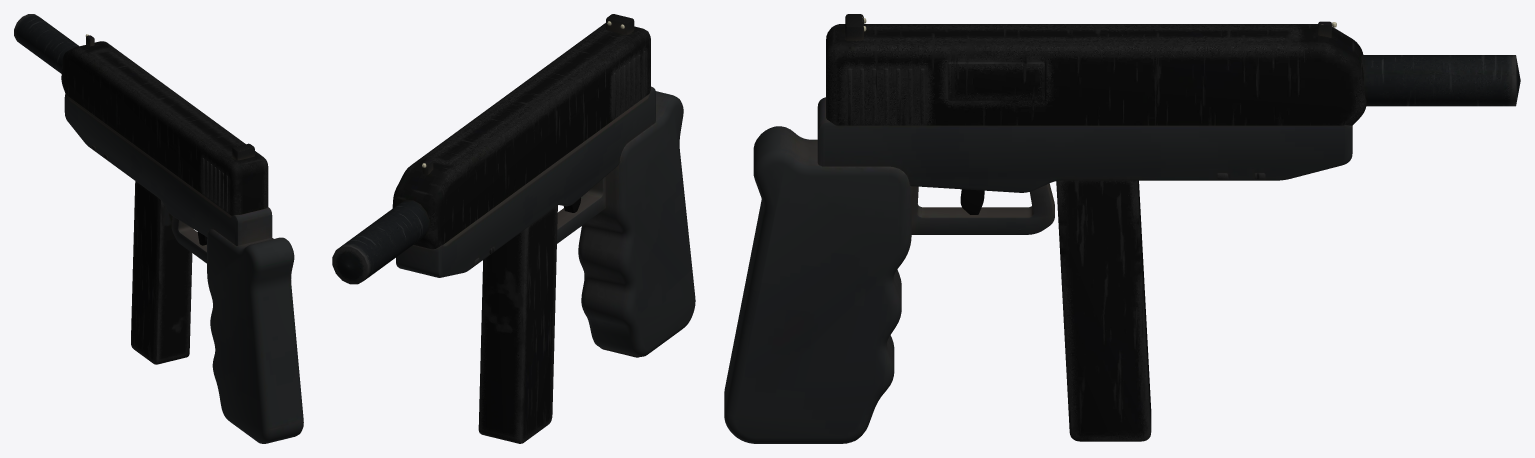
File: tec9.glb
3 views of the same model, side by side, from view 1: azimuth 30°, elevation 25°; view 2: azimuth 150°, elevation 25°; view 3: azimuth 270°, elevation 25° (orthographic). The views are drawn at different scales.
Visible parts, largest first — view 1: body_furniture, slide_receiver, body_receiver, slide_metal; view 2: body_furniture, slide_receiver, body_receiver, slide_metal; view 3: body_furniture, slide_receiver, body_receiver, slide_metal.
Boxes of the visible parts, <box> form: body_furniture: <box>64,94,303,443</box>; slide_receiver: <box>61,41,268,215</box>; body_receiver: <box>14,14,192,364</box>; slide_metal: <box>85,34,254,160</box>; body_furniture: <box>396,86,695,356</box>; slide_receiver: <box>392,23,650,249</box>; body_receiver: <box>332,200,557,443</box>; slide_metal: <box>422,14,634,174</box>; body_furniture: <box>724,97,1352,443</box>; slide_receiver: <box>826,24,1366,125</box>; body_receiver: <box>1056,55,1520,441</box>; slide_metal: <box>845,14,1336,40</box>.
Bounding box in the file's own units: 0.031 × 0.1955 × 0.3419.
6 materials, 6 textured.
